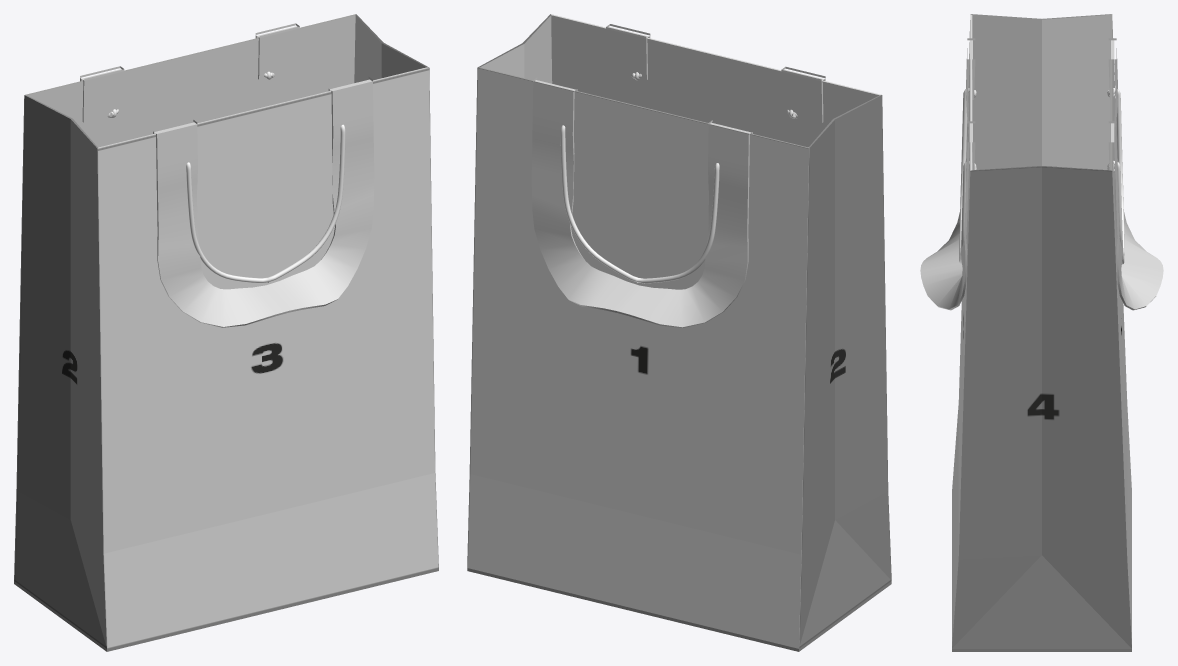
3 views of the same model, side by side, from view 1: azimuth 30°, elevation 25°; view 2: azimuth 150°, elevation 25°; view 3: azimuth 270°, elevation 25° (orthographic). The views are drawn at different scales.
Visible parts, largest first — view 1: Bag, Cube, Handle_Cord; view 2: Bag, Cube, Handle_Cord; view 3: Bag, Cube, Handle_Cord.
Boxes of the visible parts, bbox=[...] form: Bag: bbox=[14, 14, 438, 651]; Cube: bbox=[80, 23, 374, 327]; Handle_Cord: bbox=[107, 71, 345, 283]; Bag: bbox=[467, 14, 891, 651]; Cube: bbox=[531, 24, 825, 327]; Handle_Cord: bbox=[560, 72, 798, 283]; Bag: bbox=[952, 14, 1131, 651]; Cube: bbox=[920, 38, 1163, 310]; Handle_Cord: bbox=[959, 88, 1124, 264].
Size of the model in its own units: 0.165 by 0.2373 by 0.108.
3 materials, 1 textured.
